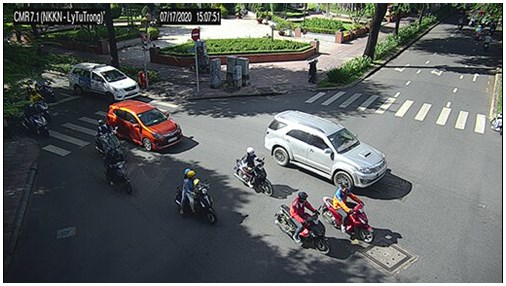di_bo: (308, 59, 318, 84)
xe_hoi: (264, 110, 388, 190), (107, 100, 182, 152)
xe_may: (274, 192, 332, 255), (322, 184, 375, 243), (174, 168, 219, 225), (234, 147, 275, 198), (103, 150, 133, 194), (95, 120, 125, 161), (22, 103, 51, 139), (26, 89, 52, 118), (36, 75, 57, 102), (483, 33, 492, 51), (473, 24, 482, 42), (456, 17, 463, 30)
xe_taxi: (70, 63, 140, 100)
